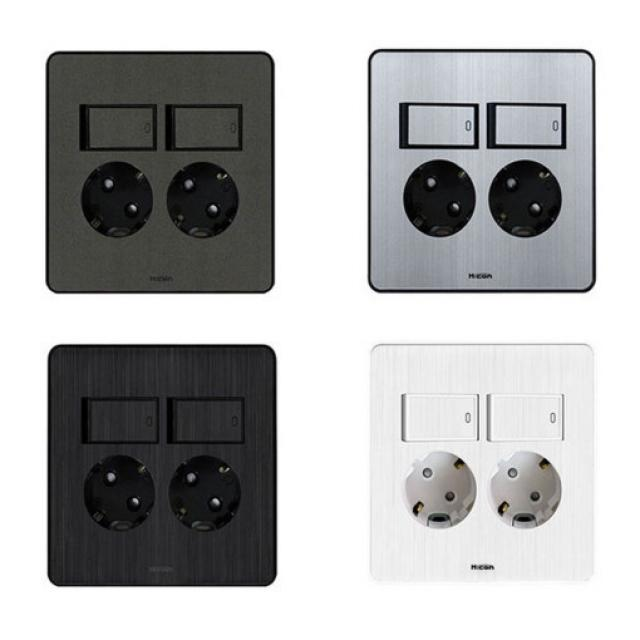typeb: (26, 28, 308, 310), (337, 31, 614, 302), (335, 330, 615, 586), (35, 334, 292, 592)
